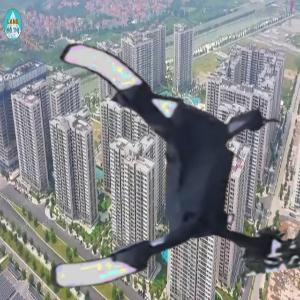drone: (29, 27, 295, 293)
